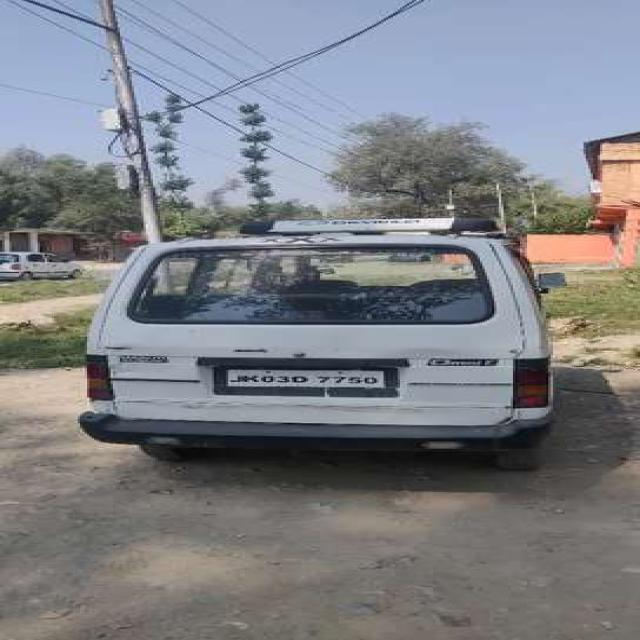licenseplate: (223, 368, 385, 389)
